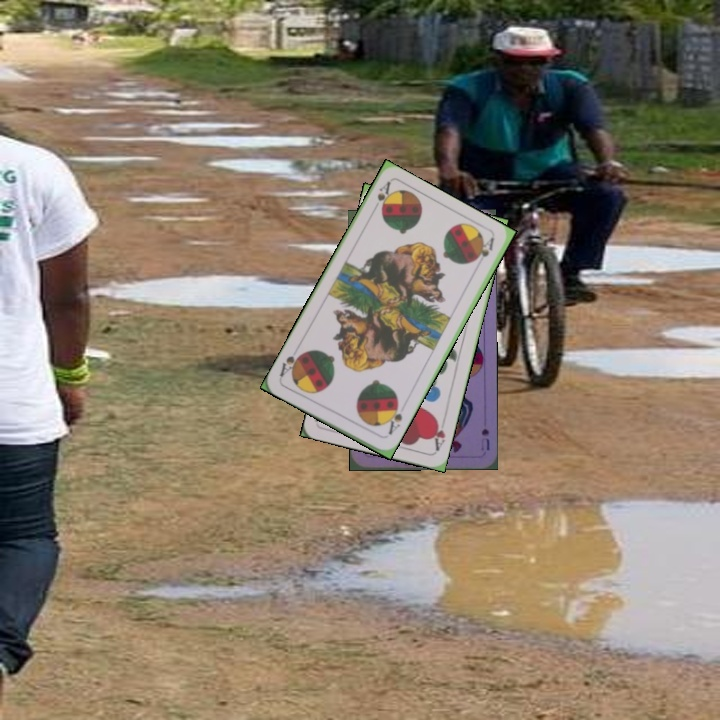HA: (428, 413, 448, 454)
SA: (368, 178, 394, 216), (382, 399, 405, 438)
SU: (477, 424, 492, 453)
